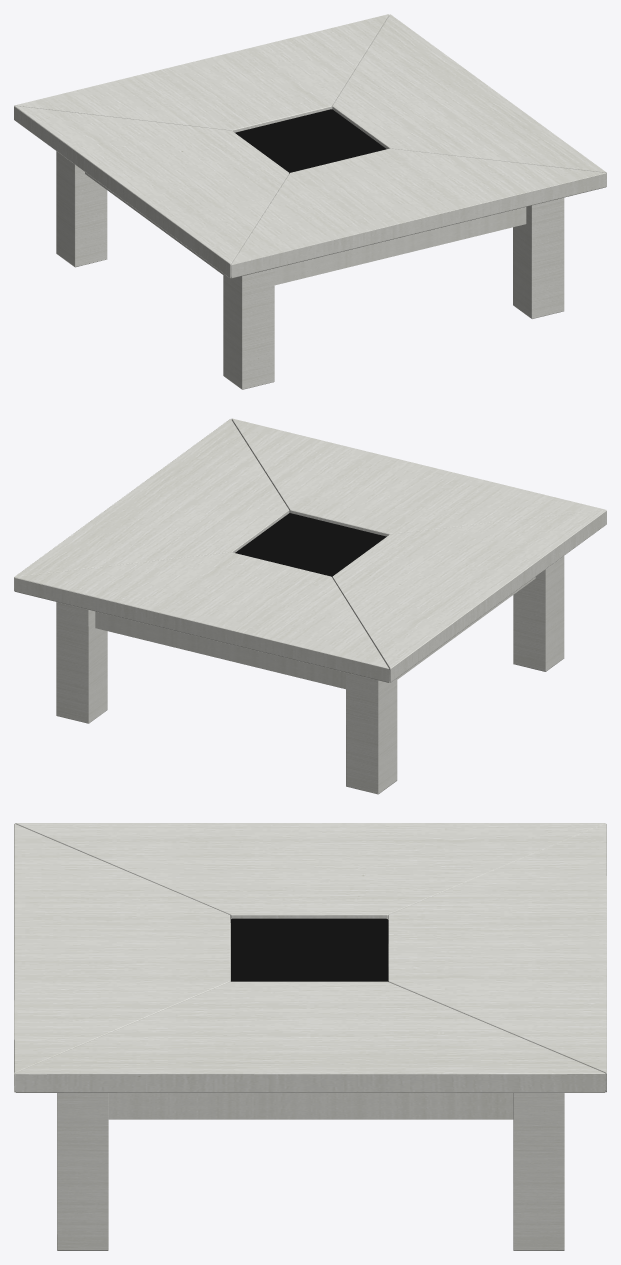
Rendered from Tea table.FBX.
The picture shows the model from 3 angles, top to bottom: view 1: azimuth 30°, elevation 25°; view 2: azimuth 150°, elevation 25°; view 3: azimuth 270°, elevation 25°; orthographic projection. The views are drawn at different scales.
Visible parts, largest first — view 1: tea table; view 2: tea table; view 3: tea table.
Boxes of the visible parts, <box> form: tea table: <box>14,14,606,389</box>; tea table: <box>14,418,606,794</box>; tea table: <box>14,823,606,1250</box>.
Size of the model in its own units: 93.97 by 34.28 by 93.97.
